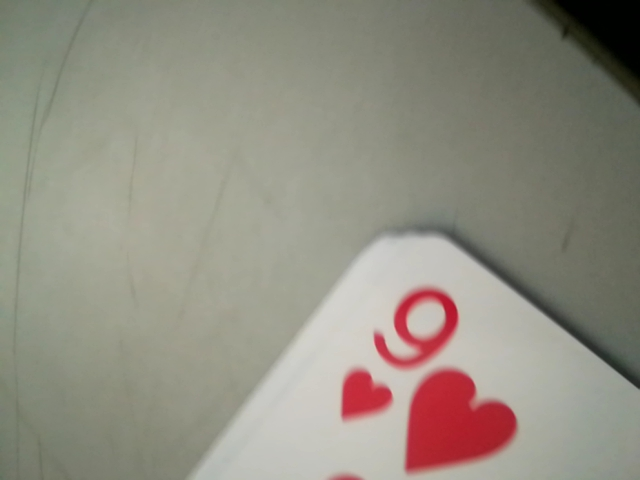hx 9: (343, 267, 473, 458)
